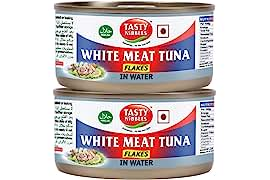non_veg: (154, 108, 173, 126), (157, 25, 170, 39)
